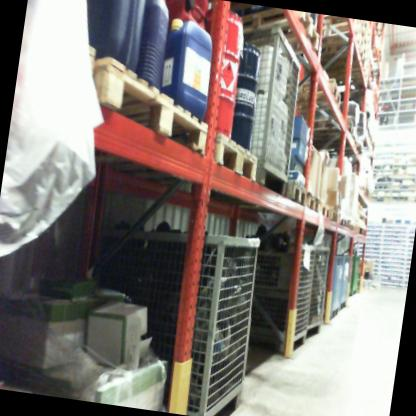pallet: (85, 52, 223, 174), (119, 116, 267, 198), (227, 4, 333, 64), (283, 68, 346, 113), (311, 128, 368, 166), (299, 111, 360, 145), (316, 16, 360, 58), (278, 170, 311, 204), (299, 184, 319, 217), (320, 200, 330, 220)
stillage: (74, 203, 282, 416), (209, 13, 313, 202), (257, 233, 320, 357), (298, 237, 340, 347)
